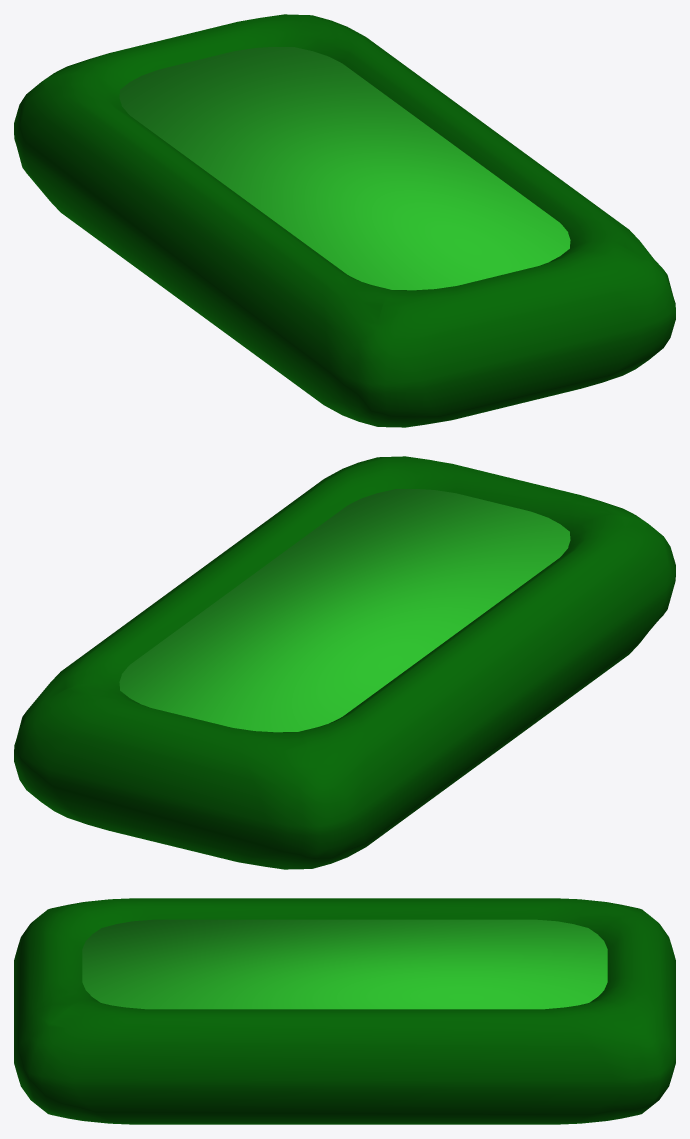
Rendered from plat1.obj.
3 renders of one model, top to bottom at view 1: azimuth 30°, elevation 25°; view 2: azimuth 150°, elevation 25°; view 3: azimuth 270°, elevation 25°, orthographic. The views are drawn at different scales.
Visible parts, largest first — view 1: Cube_Cube, Cube.002_Cube.002; view 2: Cube_Cube, Cube.002_Cube.002; view 3: Cube_Cube, Cube.002_Cube.002.
Part boxes in pixels (<box>): Cube_Cube: <box>14,14,675,427</box>; Cube.002_Cube.002: <box>119,47,570,290</box>; Cube_Cube: <box>14,456,675,869</box>; Cube.002_Cube.002: <box>119,489,570,732</box>; Cube_Cube: <box>14,898,675,1124</box>; Cube.002_Cube.002: <box>82,919,607,1009</box>.
Size of the model in its own units: 33.8 by 12.2 by 65.12.
